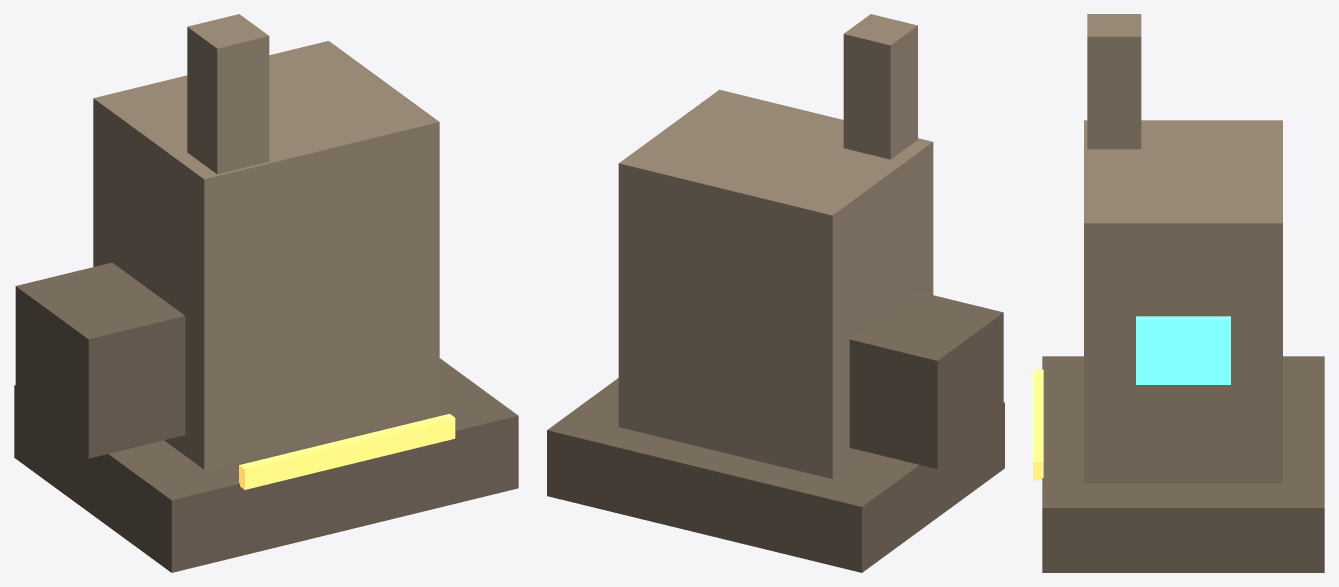
File: refinery-processor-lod2.glb
3 views of the same model, side by side, from view 1: azimuth 30°, elevation 25°; view 2: azimuth 150°, elevation 25°; view 3: azimuth 270°, elevation 25° (orthographic). The views are drawn at different scales.
Parts seen in each view (by area): view 1: refinery-processor-core, refinery-processor-base, refinery-processor-ore-intake, refinery-processor-exhaust-stack, refinery-processor-hazard-band; view 2: refinery-processor-core, refinery-processor-base, refinery-processor-ore-intake, refinery-processor-exhaust-stack; view 3: refinery-processor-core, refinery-processor-base, refinery-processor-exhaust-stack, refinery-processor-status, refinery-processor-hazard-band.
Boxes of the visible parts, bbox=[...] form: refinery-processor-core: bbox=[93, 41, 439, 469]; refinery-processor-base: bbox=[14, 358, 518, 572]; refinery-processor-ore-intake: bbox=[15, 262, 185, 458]; refinery-processor-exhaust-stack: bbox=[187, 14, 269, 174]; refinery-processor-hazard-band: bbox=[239, 413, 455, 489]; refinery-processor-core: bbox=[618, 89, 933, 479]; refinery-processor-base: bbox=[547, 378, 1004, 572]; refinery-processor-ore-intake: bbox=[849, 291, 1003, 468]; refinery-processor-exhaust-stack: bbox=[843, 14, 917, 159]; refinery-processor-core: bbox=[1084, 120, 1282, 483]; refinery-processor-base: bbox=[1042, 356, 1324, 572]; refinery-processor-exhaust-stack: bbox=[1087, 14, 1141, 149]; refinery-processor-status: bbox=[1136, 316, 1230, 384]; refinery-processor-hazard-band: bbox=[1033, 369, 1043, 480].
Size of the model in its own units: 3.13 by 3.77 by 2.27.
